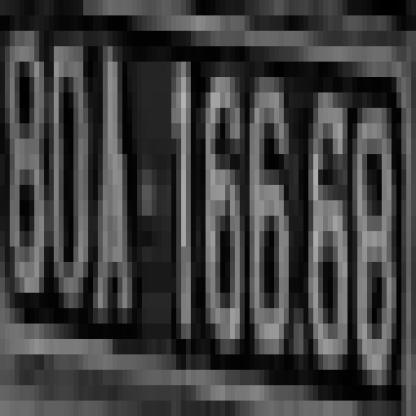0: (49, 31, 93, 293)
1: (162, 62, 200, 308)
6: (240, 77, 289, 339), (304, 93, 352, 354), (200, 77, 240, 339)
8: (348, 108, 396, 370), (10, 31, 44, 277)
A: (93, 46, 132, 293)
